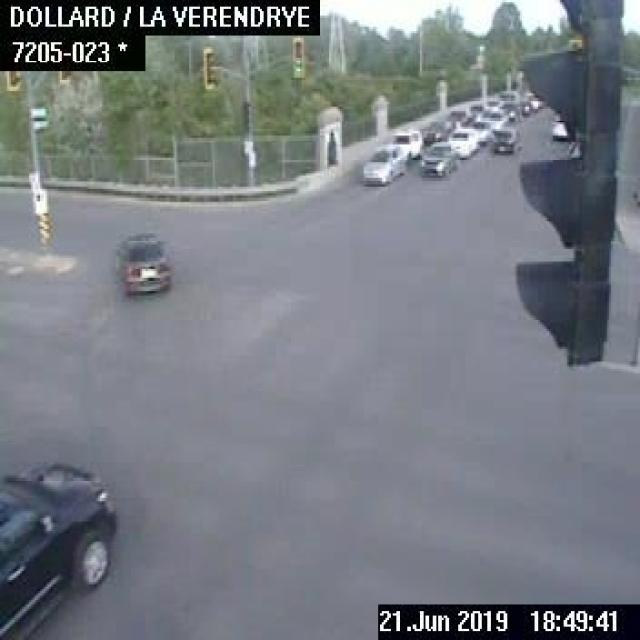vehicle: (0, 456, 118, 638), (112, 227, 174, 296), (360, 145, 404, 187), (417, 142, 459, 176), (447, 126, 479, 160), (387, 128, 422, 157), (492, 123, 522, 154), (419, 117, 446, 142), (469, 117, 492, 145), (442, 108, 468, 128), (551, 114, 567, 139), (501, 100, 520, 120), (523, 91, 542, 110), (466, 101, 484, 119), (517, 98, 529, 114)
